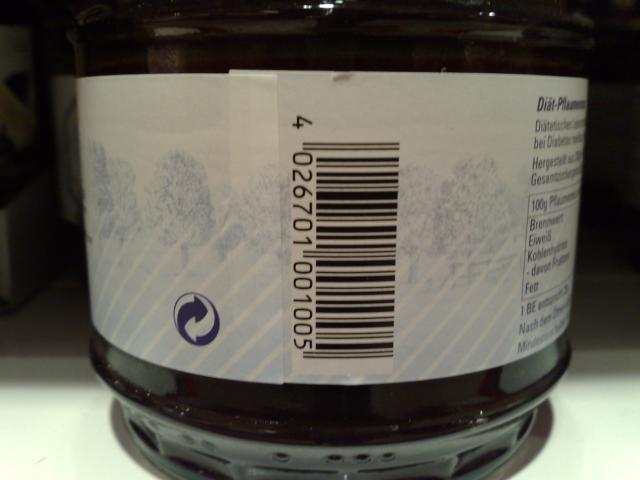Barcode: (286, 102, 406, 376)
